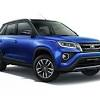Toyota: (1, 18, 100, 81)
